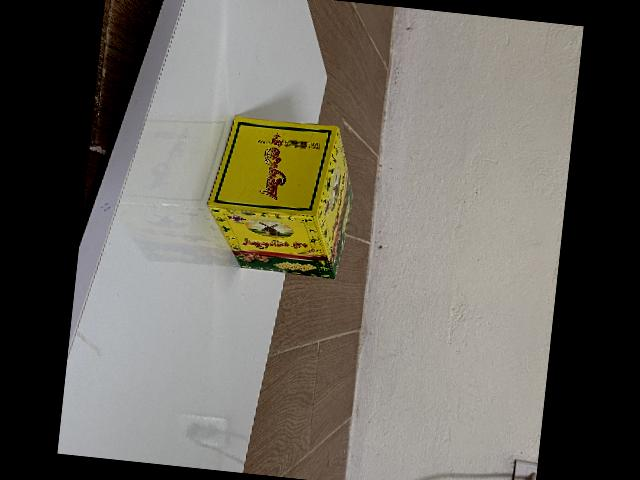luong_kho: (207, 116, 353, 279)
